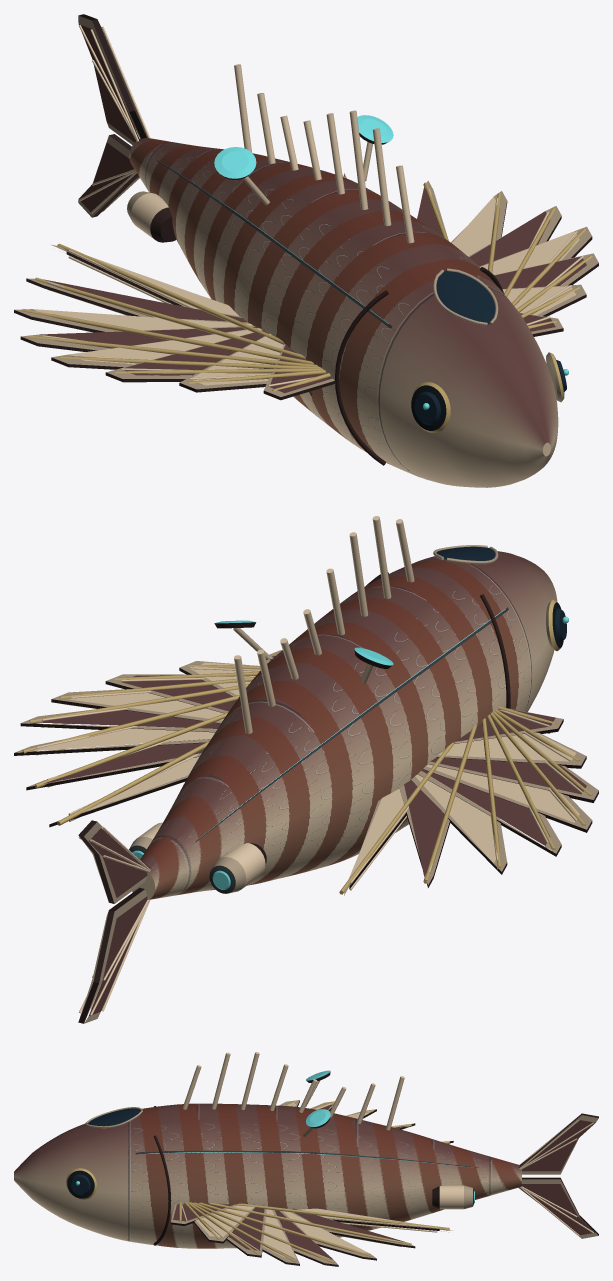
File: lionfish.glb
3 views of the same model, one above another, from view 1: azimuth 30°, elevation 25°; view 2: azimuth 150°, elevation 25°; view 3: azimuth 270°, elevation 25° (orthographic). The views are drawn at different scales.
Parts seen in each view (by area): view 1: lionfish_hull; view 2: lionfish_hull; view 3: lionfish_hull.
Boxes of the visible parts, x1,y1,x2,y2 form: lionfish_hull: (14, 14, 598, 487); lionfish_hull: (14, 516, 598, 1023); lionfish_hull: (14, 1052, 598, 1266).
Size of the model in its own units: 45.14 by 24.54 by 68.
Materials: 1 (1 with a texture image).
